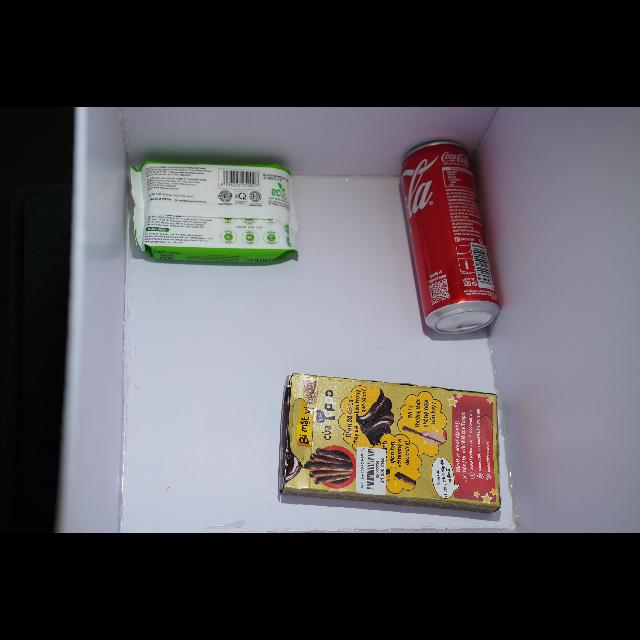banh_toppo_socola: (281, 374, 500, 513)
coca_cola: (401, 141, 500, 334)
khan_giay: (129, 161, 297, 263)
